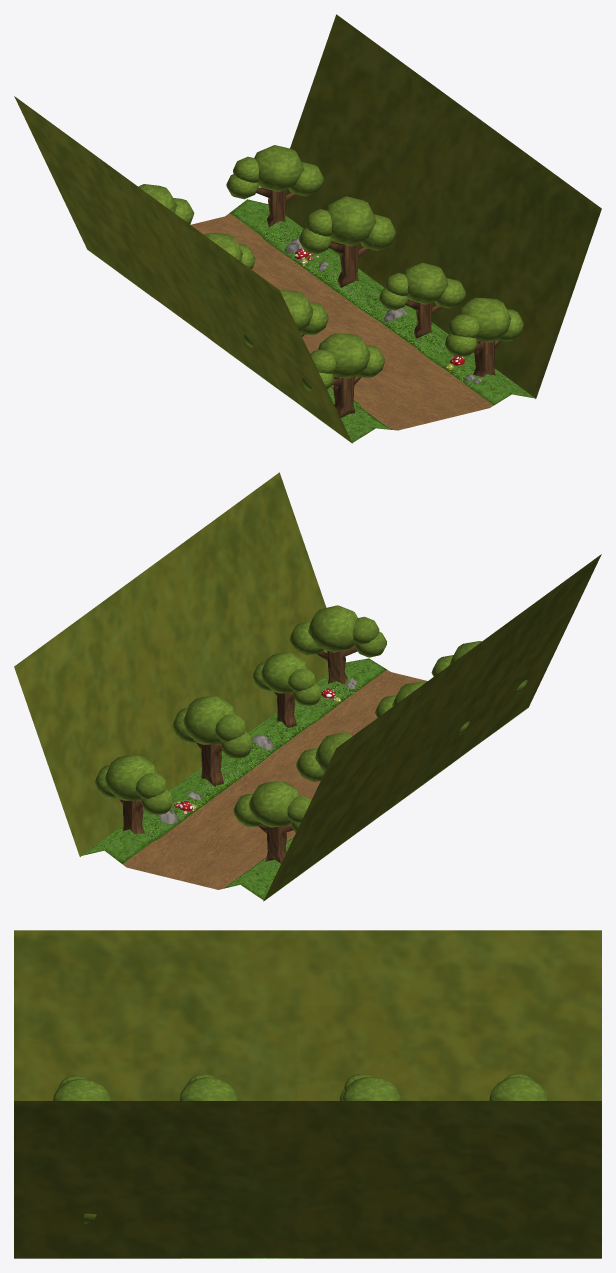
Rendered from forest.fbx.
3 renders of one model, top to bottom at view 1: azimuth 30°, elevation 25°; view 2: azimuth 150°, elevation 25°; view 3: azimuth 270°, elevation 25°, orthographic. The views are drawn at different scales.
Parts seen in each view (by area): view 1: pPlane2, pPlane3, pasted__pPlane2, pasted__pasted__polySurface18, pasted__pasted__polySurface19, pasted__pasted__polySurface16, pasted__pasted__polySurface14, pasted__pasted__polySurface17, pasted__pasted__polySurface12, pasted__pasted__polySurface15, pasted__pasted__polySurface13; view 2: pPlane2, pPlane3, pasted__pPlane2, pasted__pasted__polySurface16, pasted__pasted__polySurface18, pasted__pasted__polySurface19, pasted__pasted__polySurface15, pasted__pasted__polySurface17, pasted__pasted__polySurface13, pasted__pasted__polySurface12, pasted__pasted__polySurface14; view 3: pPlane3, pPlane2, pasted__pasted__polySurface13, pasted__pasted__polySurface15, pasted__pasted__polySurface12, pasted__pasted__polySurface14.
Boxes of the visible parts, left/top/right/bottom form: pPlane2: left=285, top=14, right=601, bottom=398; pPlane3: left=14, top=96, right=352, bottom=443; pasted__pPlane2: left=87, top=199, right=535, bottom=442; pasted__pasted__polySurface18: left=299, top=196, right=395, bottom=287; pasted__pasted__polySurface19: left=226, top=145, right=323, bottom=227; pasted__pasted__polySurface16: left=445, top=297, right=523, bottom=377; pasted__pasted__polySurface14: left=301, top=333, right=384, bottom=417; pasted__pasted__polySurface17: left=379, top=262, right=465, bottom=338; pasted__pasted__polySurface12: left=243, top=289, right=328, bottom=347; pasted__pasted__polySurface15: left=138, top=184, right=194, bottom=224; pasted__pasted__polySurface13: left=204, top=233, right=255, bottom=269; pPlane2: left=14, top=472, right=328, bottom=856; pPlane3: left=263, top=554, right=601, bottom=901; pasted__pPlane2: left=81, top=658, right=528, bottom=900; pasted__pasted__polySurface16: left=289, top=605, right=386, bottom=684; pasted__pasted__polySurface18: left=172, top=696, right=253, bottom=785; pasted__pasted__polySurface19: left=95, top=755, right=173, bottom=833; pasted__pasted__polySurface15: left=233, top=781, right=311, bottom=863; pasted__pasted__polySurface17: left=252, top=653, right=321, bottom=727; pasted__pasted__polySurface13: left=296, top=732, right=353, bottom=782; pasted__pasted__polySurface12: left=375, top=681, right=469, bottom=734; pasted__pasted__polySurface14: left=431, top=641, right=527, bottom=693; pPlane3: left=14, top=930, right=601, bottom=1100; pPlane2: left=14, top=1101, right=601, bottom=1258; pasted__pasted__polySurface13: left=339, top=1074, right=400, bottom=1100; pasted__pasted__polySurface15: left=489, top=1073, right=547, bottom=1100; pasted__pasted__polySurface12: left=179, top=1073, right=237, bottom=1100; pasted__pasted__polySurface14: left=53, top=1075, right=110, bottom=1100.
Bounding box in the file's own units: 15.71 × 8.13 × 22.43.
Materials: 1 (1 with a texture image).
